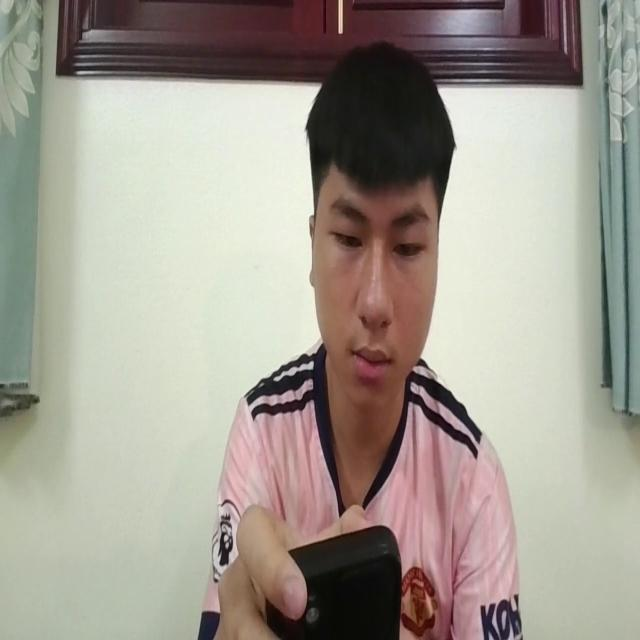phone: (262, 522, 401, 640)
student: (192, 53, 522, 640)
